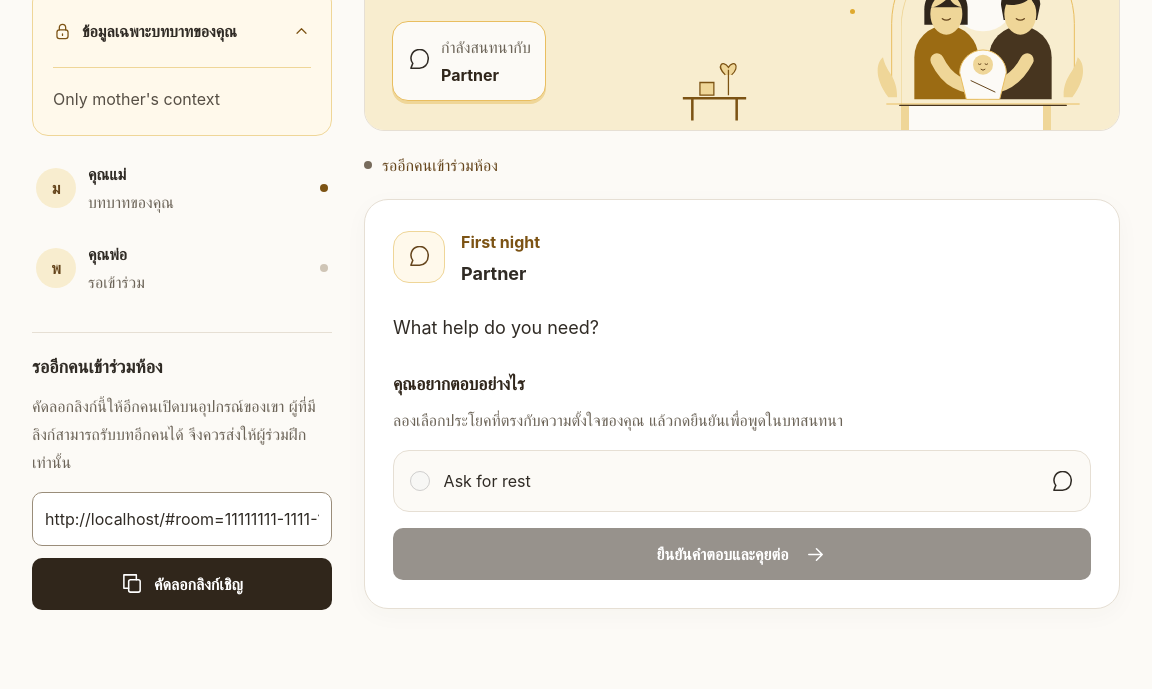
Test case: copies an invitation or explains manual copying when clipboard fails: false
(page scrolled)
Click the button "คัดลอกลิงก์เชิญ" at (182, 583), box left=32, top=557, right=332, bottom=609
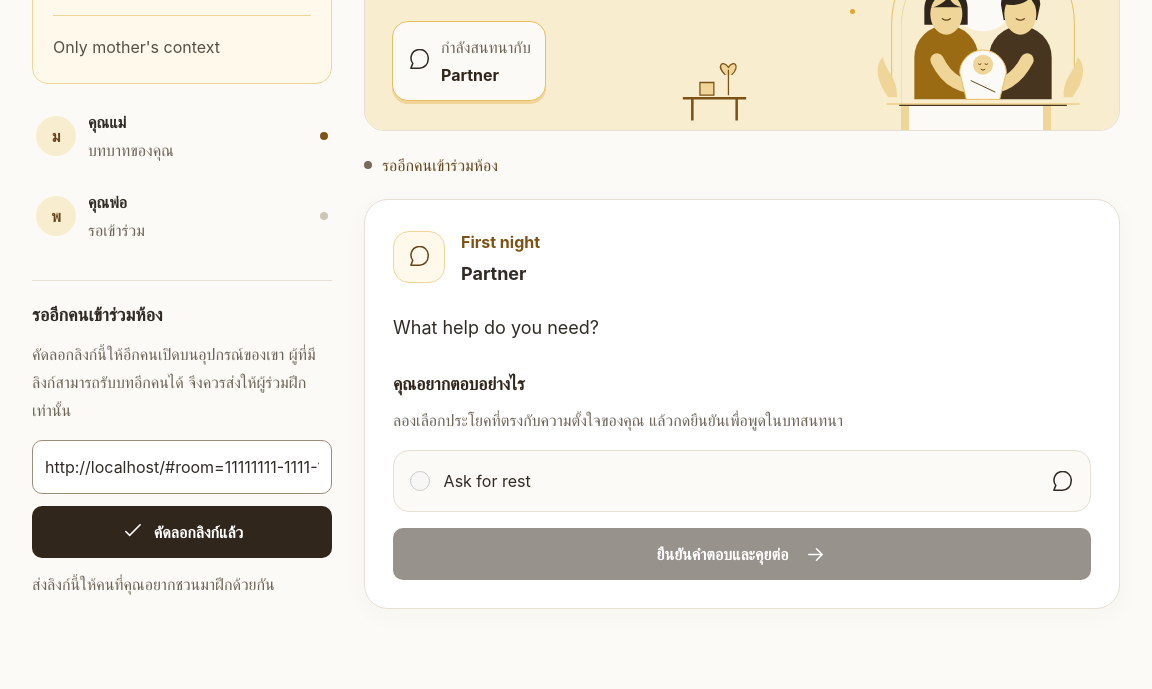
Check: the text "ส่งลิงก์นี้ให้คนที่คุณอยากชวนมาฝึกด้วยกัน" is shown, box left=32, top=573, right=275, bottom=593
